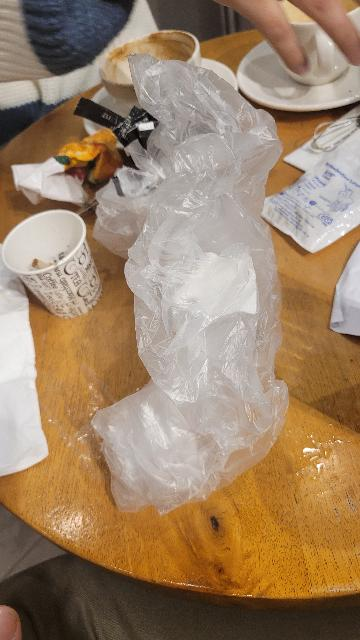Kagit: (0, 203, 116, 325)
Plastik: (92, 60, 300, 515)
